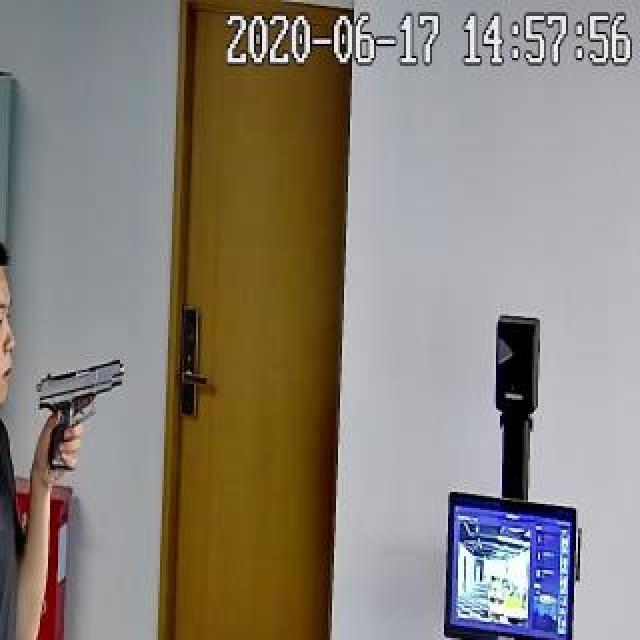Guns: (9, 338, 145, 484)
